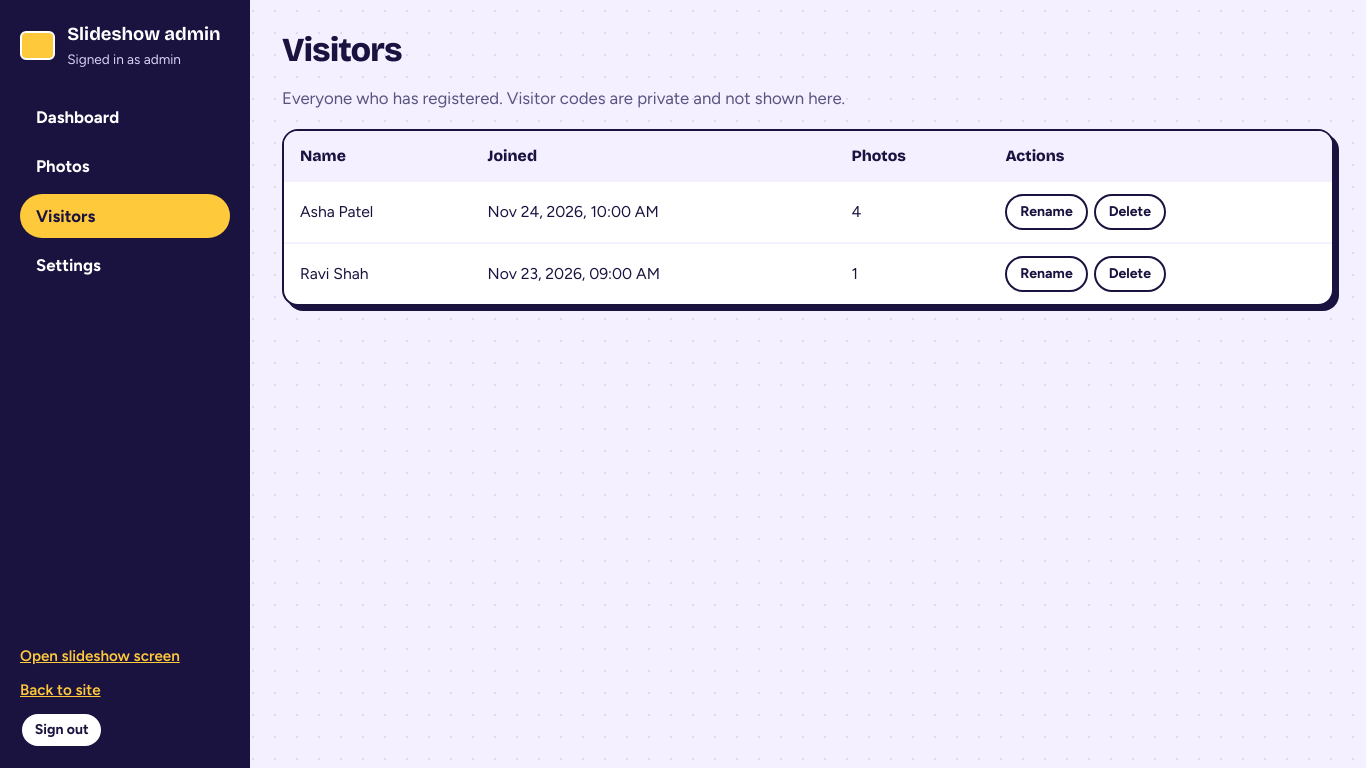
Admin visitor management › deletes a visitor after the admin confirms, and warns about their photos
Click the button with aria-label "Delete Asha Patel" at (1130, 212), box top-left (1094, 194), bottom-right (1166, 230)
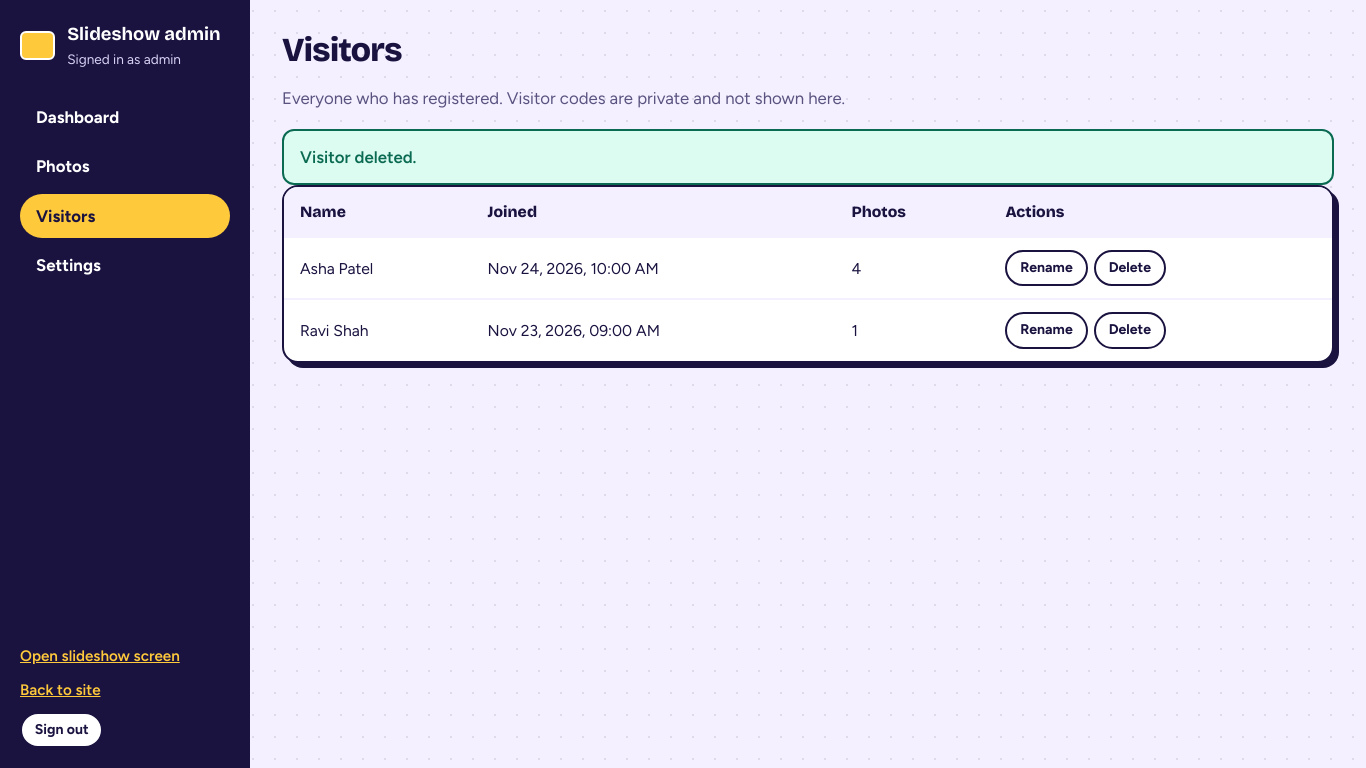
Check: the text "Visitor deleted." is shown, box top-left (282, 129), bottom-right (1334, 185)
